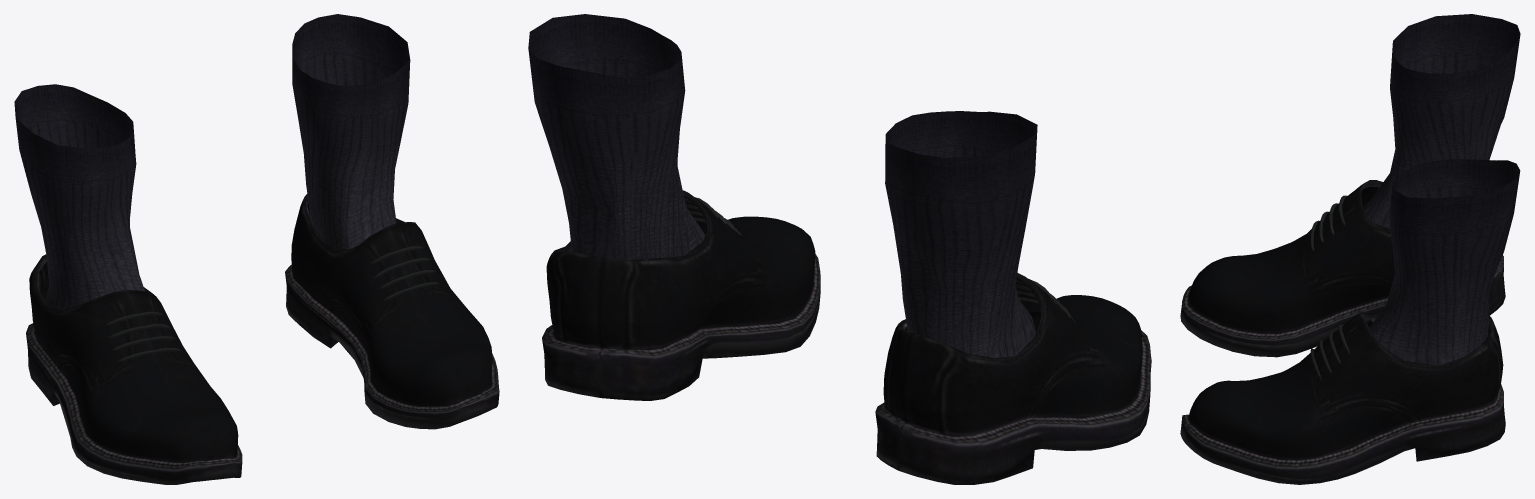
Rendered from shoes_black_boots.gltf.
The picture shows the model from 3 angles, left to right: view 1: azimuth 30°, elevation 25°; view 2: azimuth 150°, elevation 25°; view 3: azimuth 270°, elevation 25°; orthographic projection. The views are drawn at different scales.
Visible parts, largest first — view 1: shoes_black_boots; view 2: shoes_black_boots; view 3: shoes_black_boots.
Boxes of the visible parts, left/top/right/bottom form: shoes_black_boots: left=14, top=14, right=499, bottom=484; shoes_black_boots: left=528, top=14, right=1151, bottom=484; shoes_black_boots: left=1180, top=14, right=1520, bottom=484.
Bounding box in the file's own units: 0.3351 × 0.2315 × 0.2443.
1 material, 1 textured.
